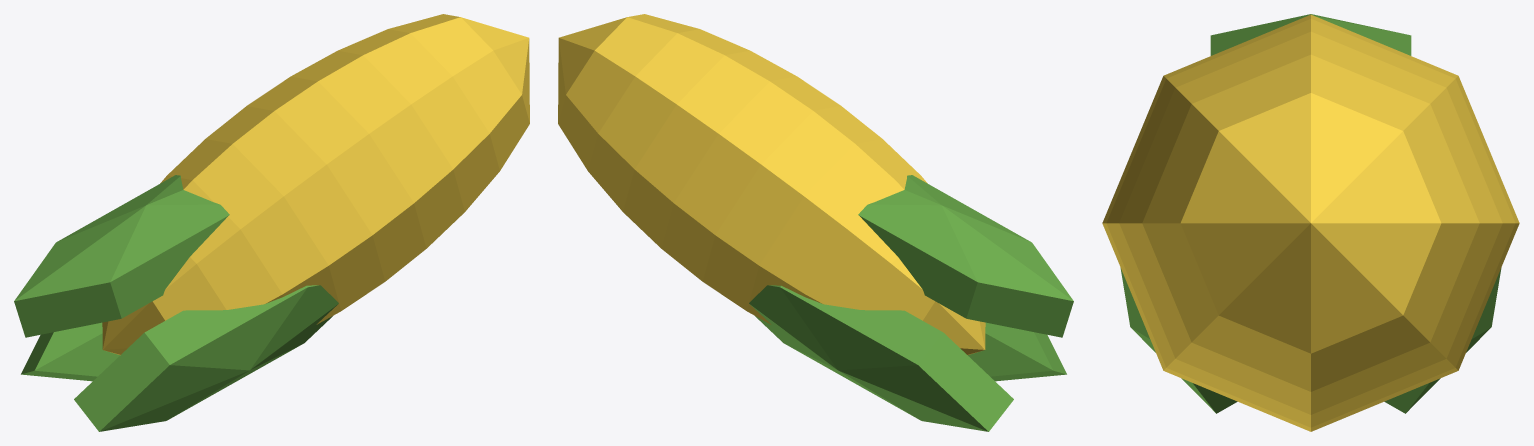
The model's file is Food_Corn.obj.
3 views of the same model, side by side, from view 1: azimuth 30°, elevation 25°; view 2: azimuth 150°, elevation 25°; view 3: azimuth 270°, elevation 25° (orthographic). The views are drawn at different scales.
Bounding box in the file's own units: 2.63 × 1.5 × 1.
